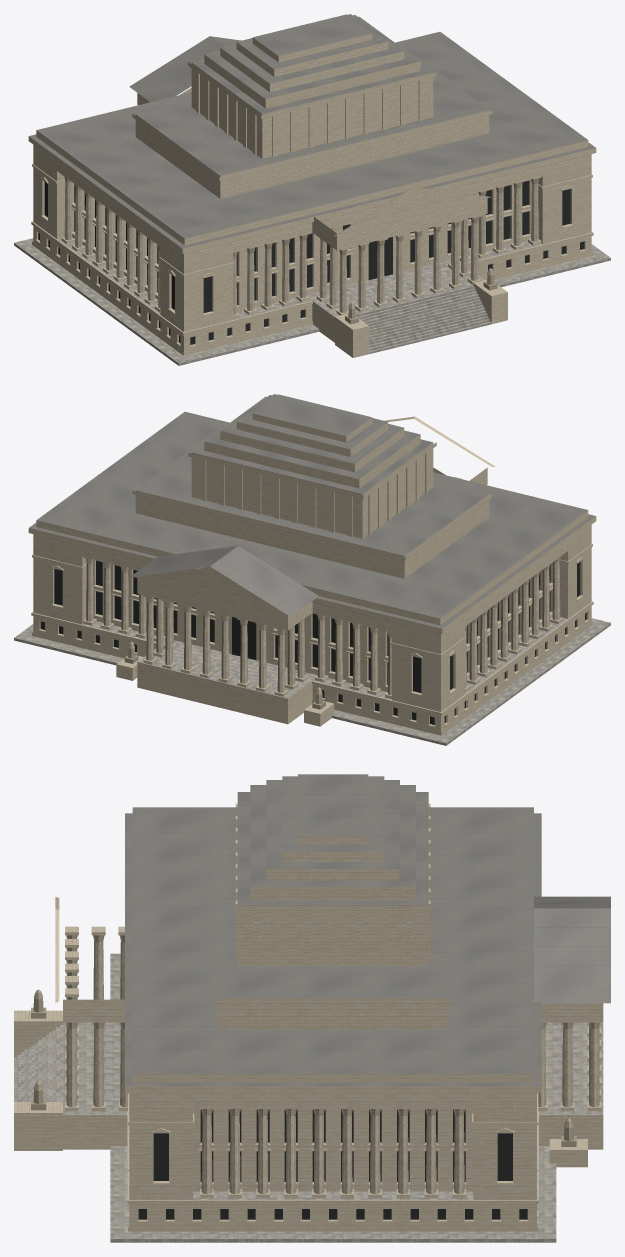
Rendered from national_archives.glb.
3 views of the same model, one above another, from view 1: azimuth 30°, elevation 25°; view 2: azimuth 150°, elevation 25°; view 3: azimuth 270°, elevation 25° (orthographic). The views are drawn at different scales.
Visible parts, largest first — view 1: national_archives; view 2: national_archives; view 3: national_archives.
Part boxes in pixels (left/top/right/bottom): national_archives: left=14, top=14, right=610, bottom=365; national_archives: left=14, top=394, right=610, bottom=745; national_archives: left=14, top=774, right=610, bottom=1242.
Bounding box in the file's own units: 106 × 51 × 93.71.
Materials: 5 (5 with a texture image).
